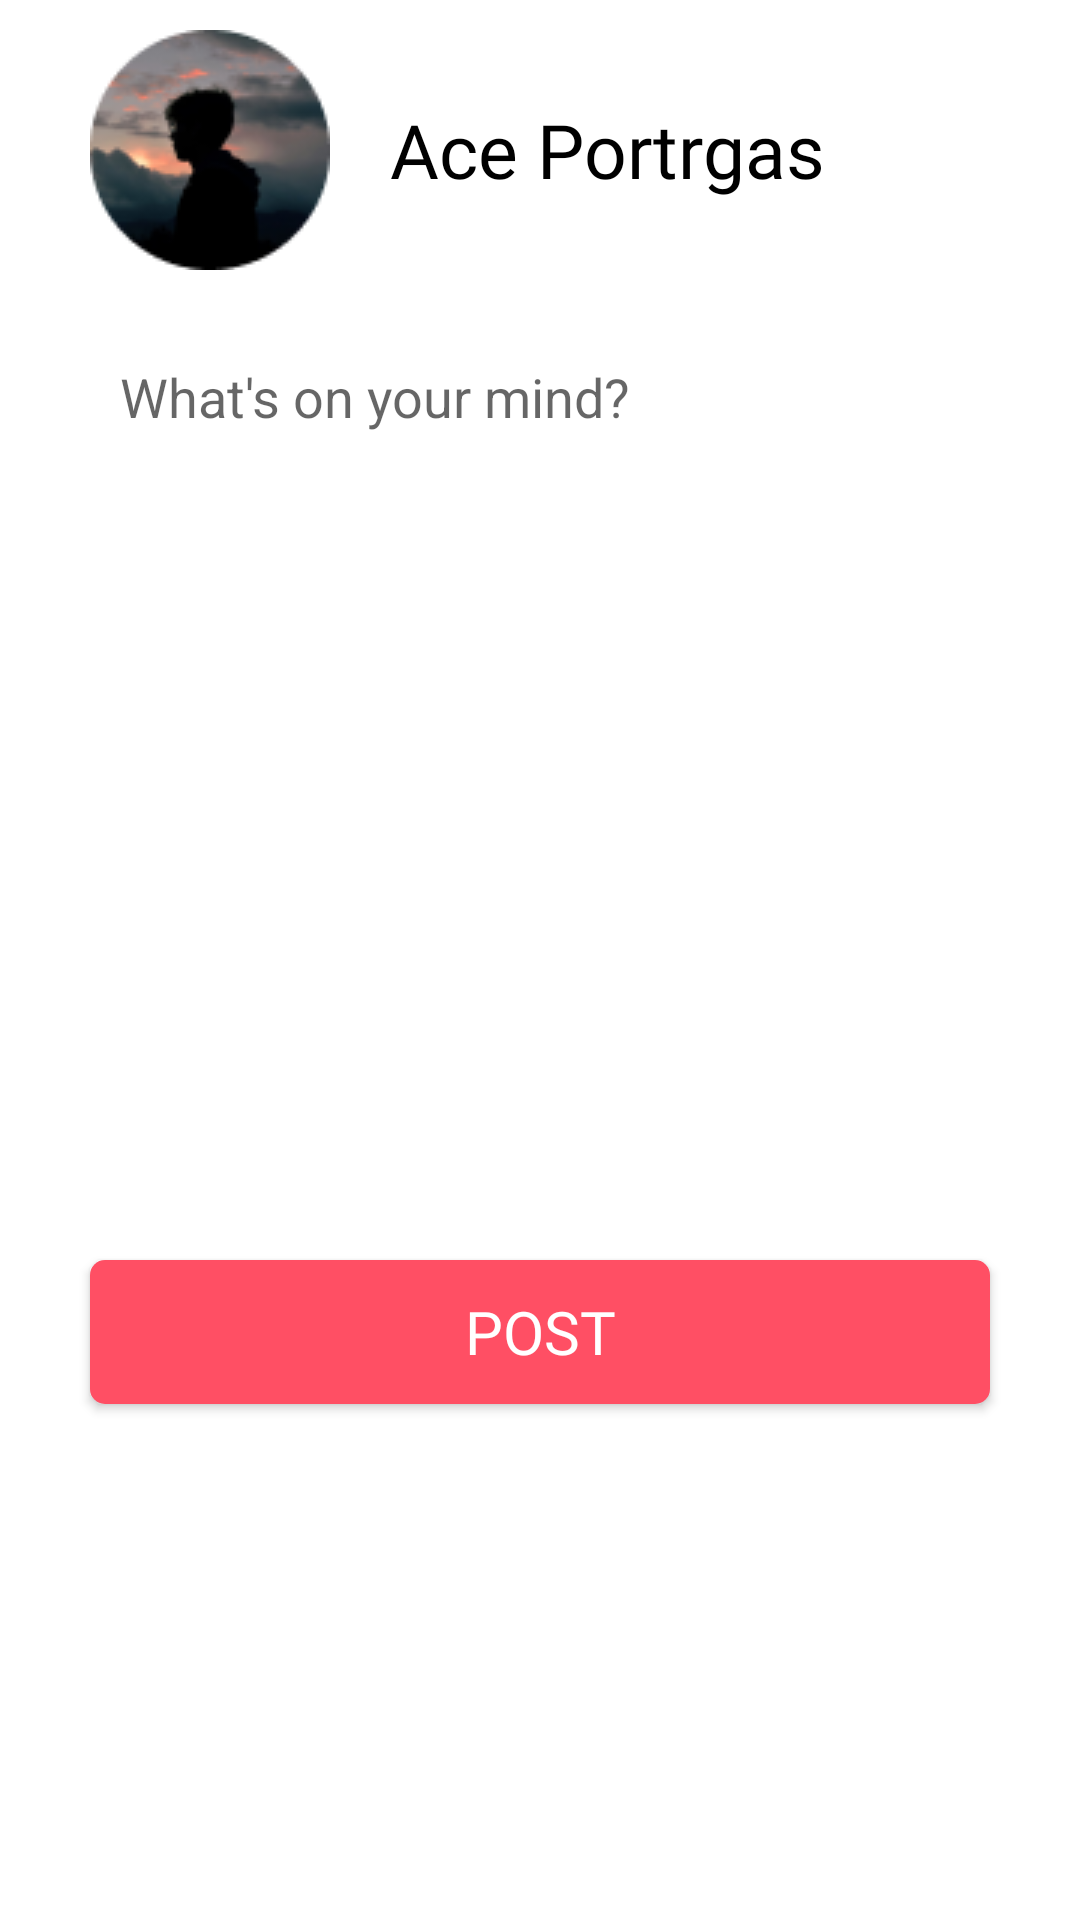

Screen size 1080w x 1920h. Icon name, then its center in pixels as (x=x, y=y):
profilepicture: (x=210, y=150)
